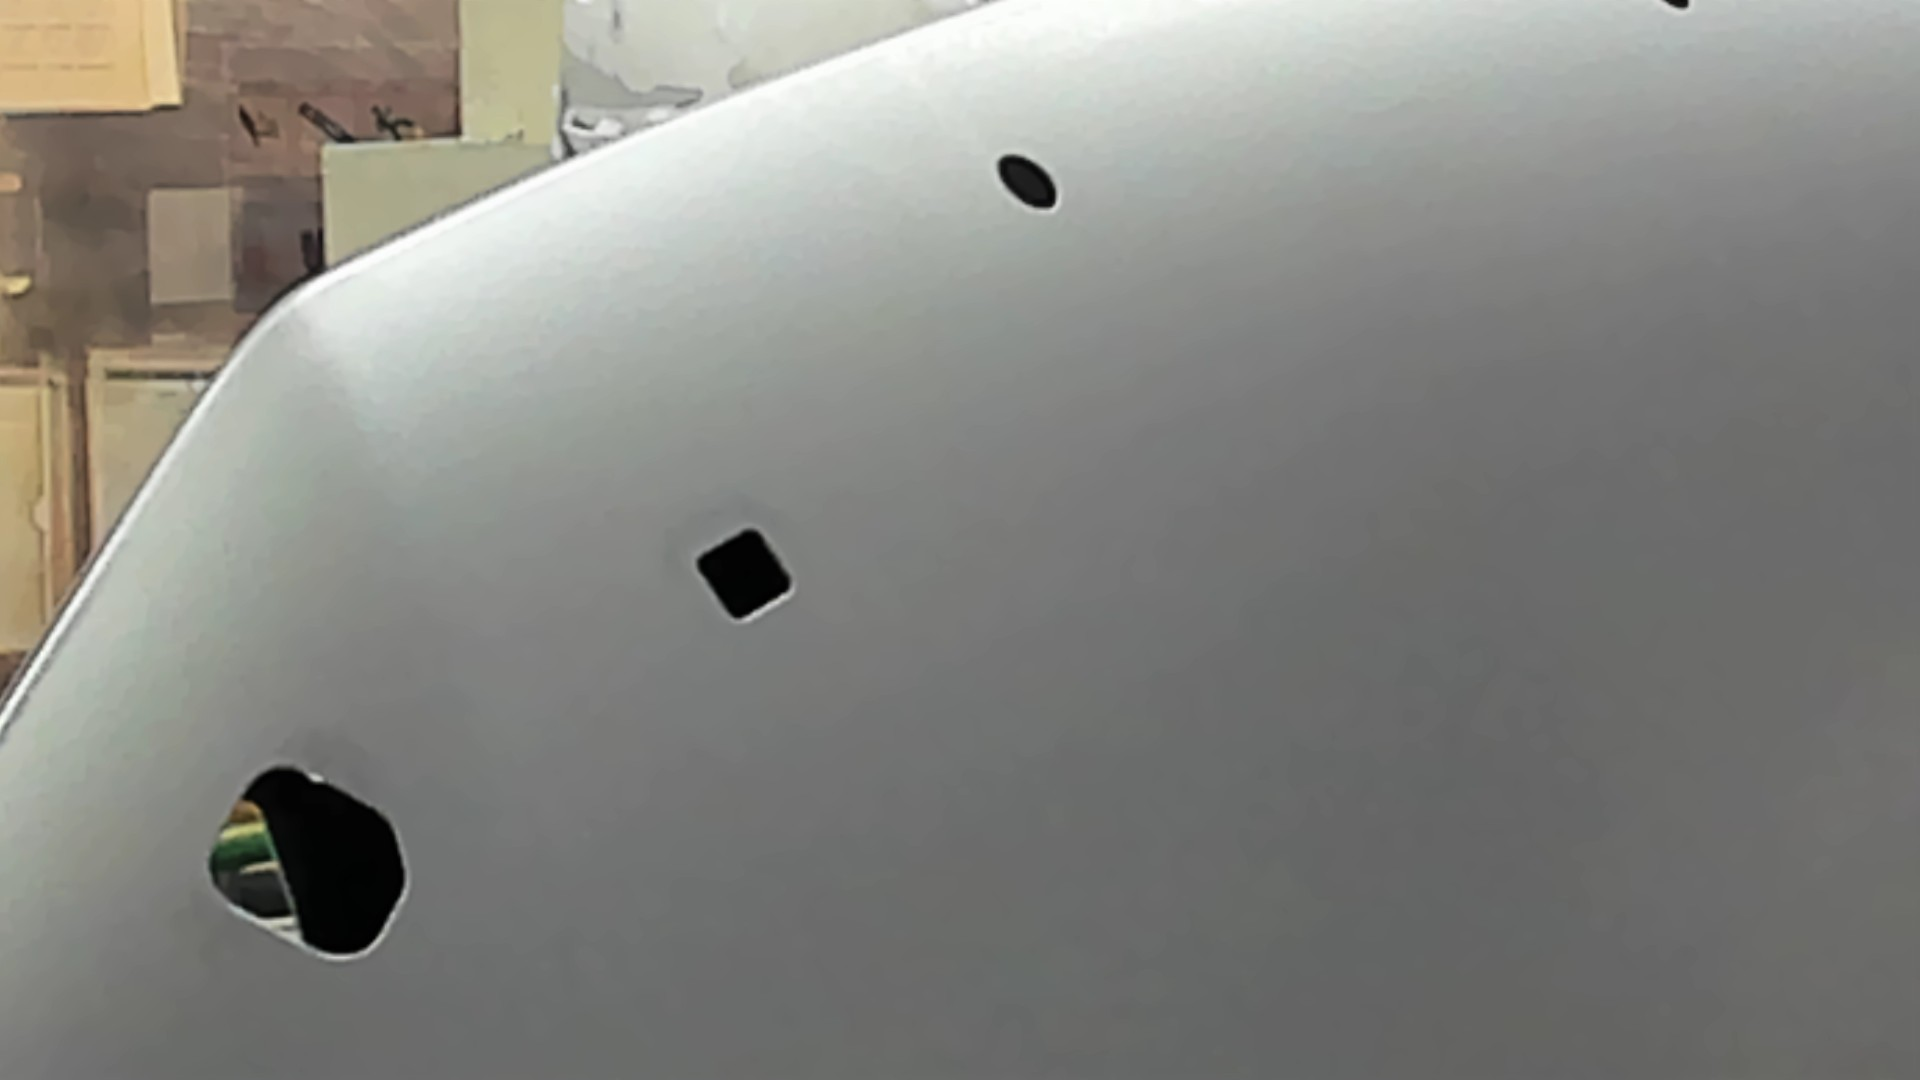chico: (980, 135, 1065, 222)
grande: (174, 744, 447, 963)
mediano: (670, 512, 824, 638)
